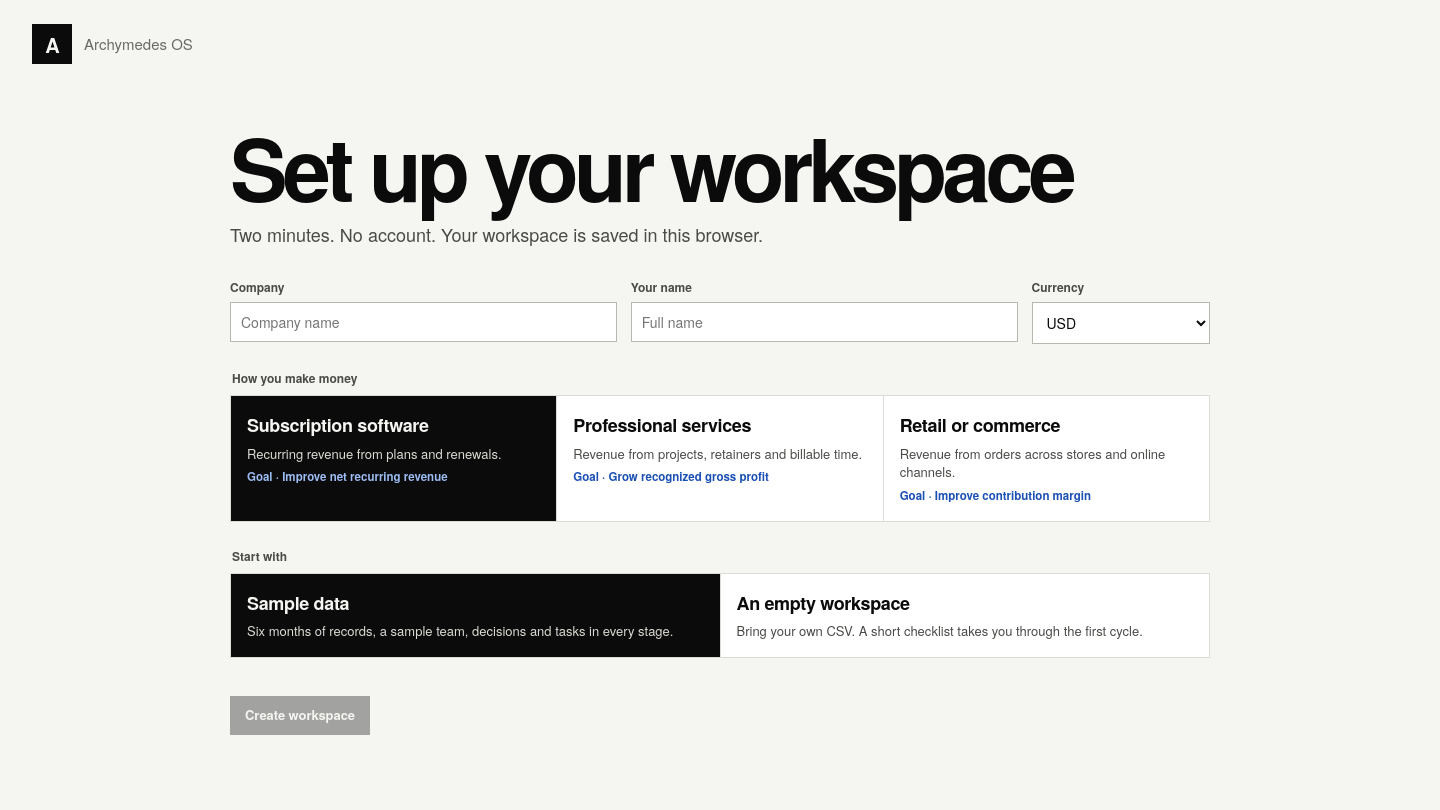
onboarding › requires a company and a name before creating
Expected: the button "Create workspace" is disabled, [230, 696, 370, 735]
In the field labelled "Company": x=423, y=322 [230, 302, 617, 342], type "Placeholder Co"
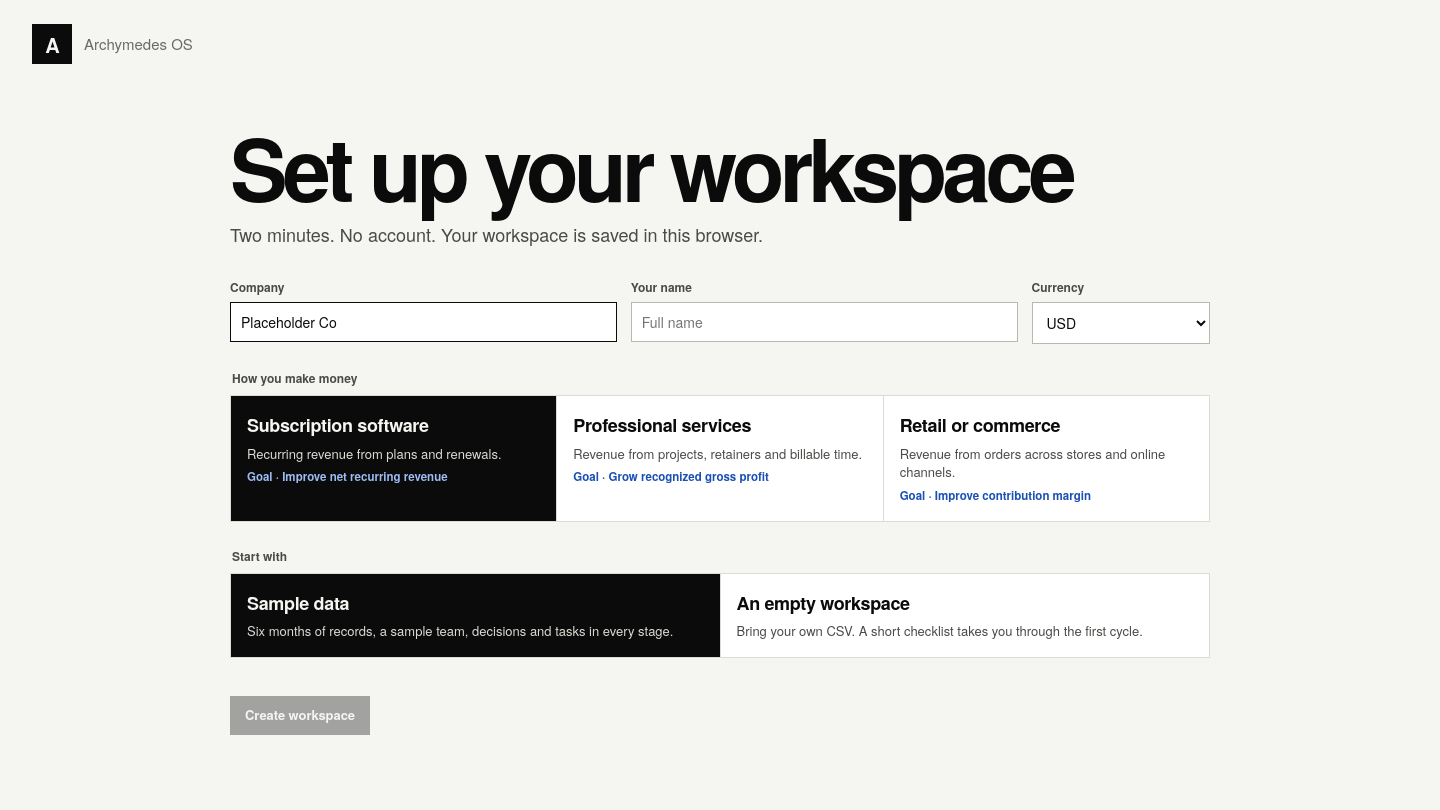
Expected: the button "Create workspace" is disabled, [230, 696, 370, 735]
In the field labelled "Your name": x=824, y=322 [631, 302, 1018, 342], type "Alex Admin"
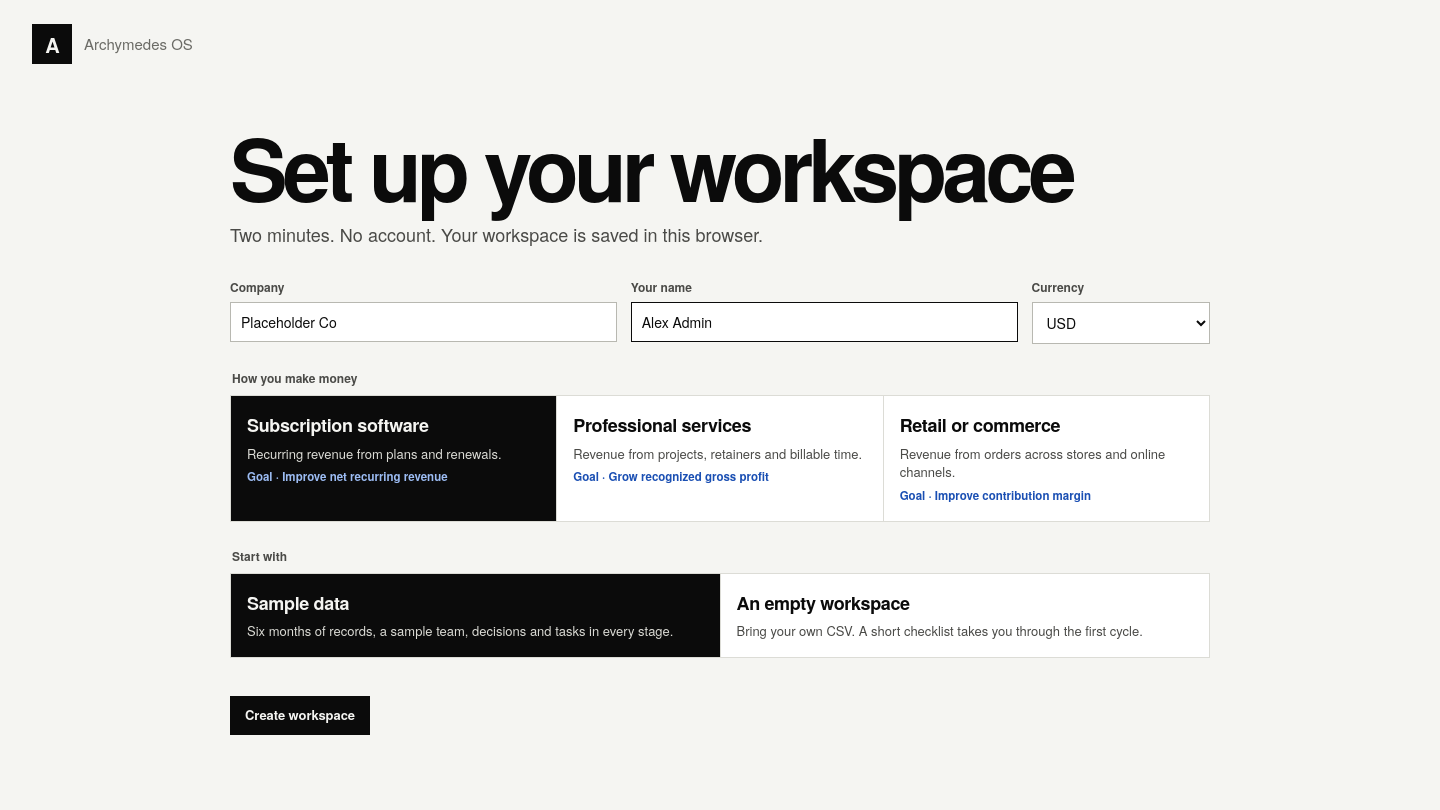
Now the button "Create workspace" is enabled, box [230, 696, 370, 735]
